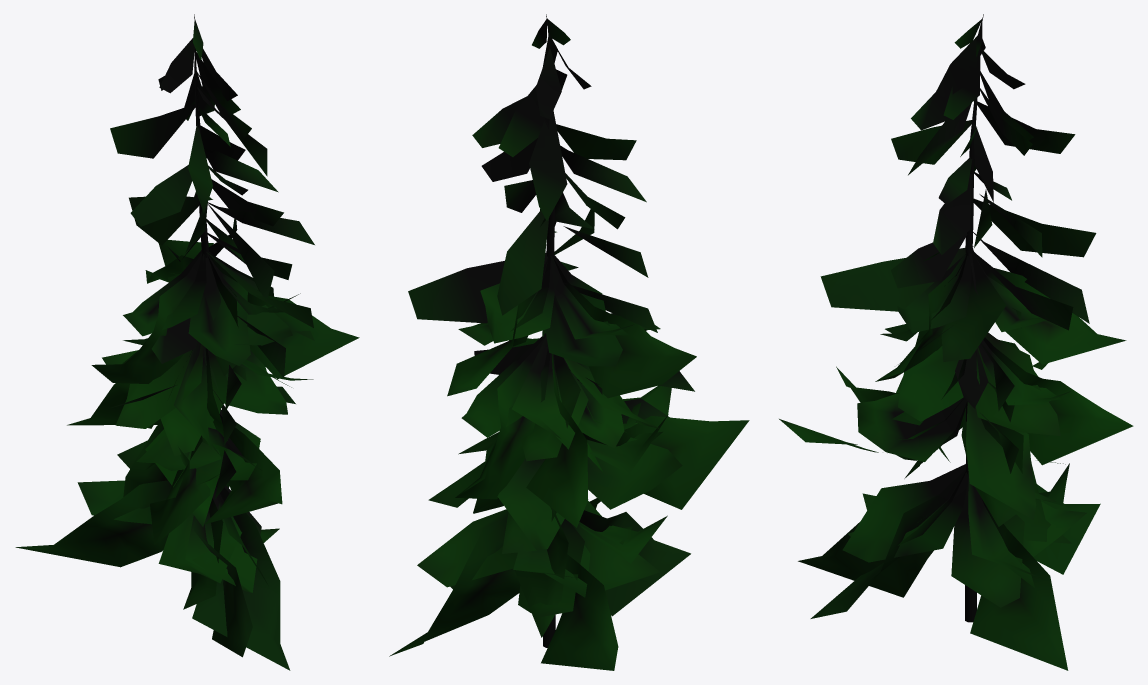
The model's file is TTFE_PineSmall_01.fbx.
The picture shows the model from 3 angles, left to right: view 1: azimuth 30°, elevation 25°; view 2: azimuth 150°, elevation 25°; view 3: azimuth 270°, elevation 25°; orthographic projection. The views are drawn at different scales.
Visible parts, largest first — view 1: TTFE_PineSmall_01; view 2: TTFE_PineSmall_01; view 3: TTFE_PineSmall_01.
Boxes of the visible parts, <box> form: TTFE_PineSmall_01: <box>15,14,359,670</box>; TTFE_PineSmall_01: <box>389,14,749,670</box>; TTFE_PineSmall_01: <box>779,14,1133,670</box>.
Bounding box in the file's own units: 2.65 × 6.51 × 3.47.
